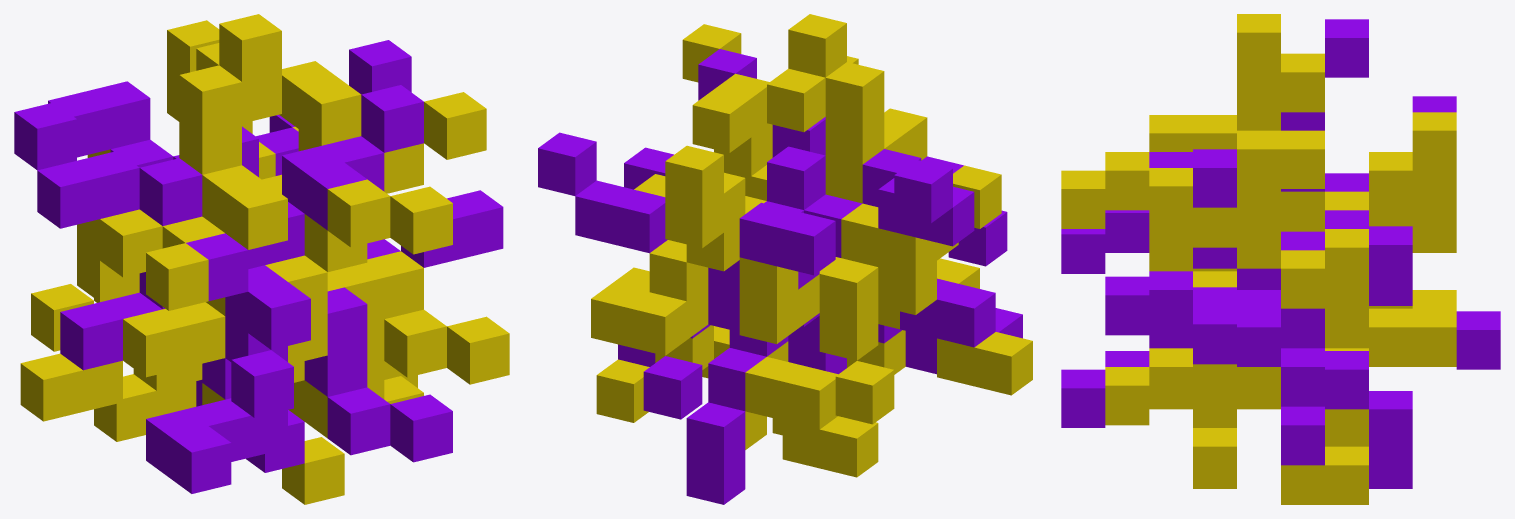
The model's file is GORODITH_projectile1.obj.
3 renders of one model, left to right at view 1: azimuth 30°, elevation 25°; view 2: azimuth 150°, elevation 25°; view 3: azimuth 270°, elevation 25°, orthographic. The views are drawn at different scales.
Bounding box in the file's own units: 1.1 × 1.1 × 1.
1 material, 1 textured.
